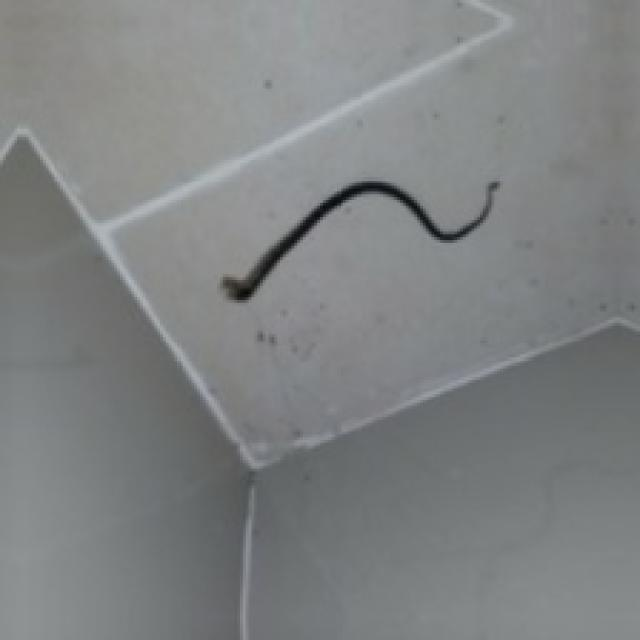gunthers philippine shrub snake: (223, 180, 497, 297)
